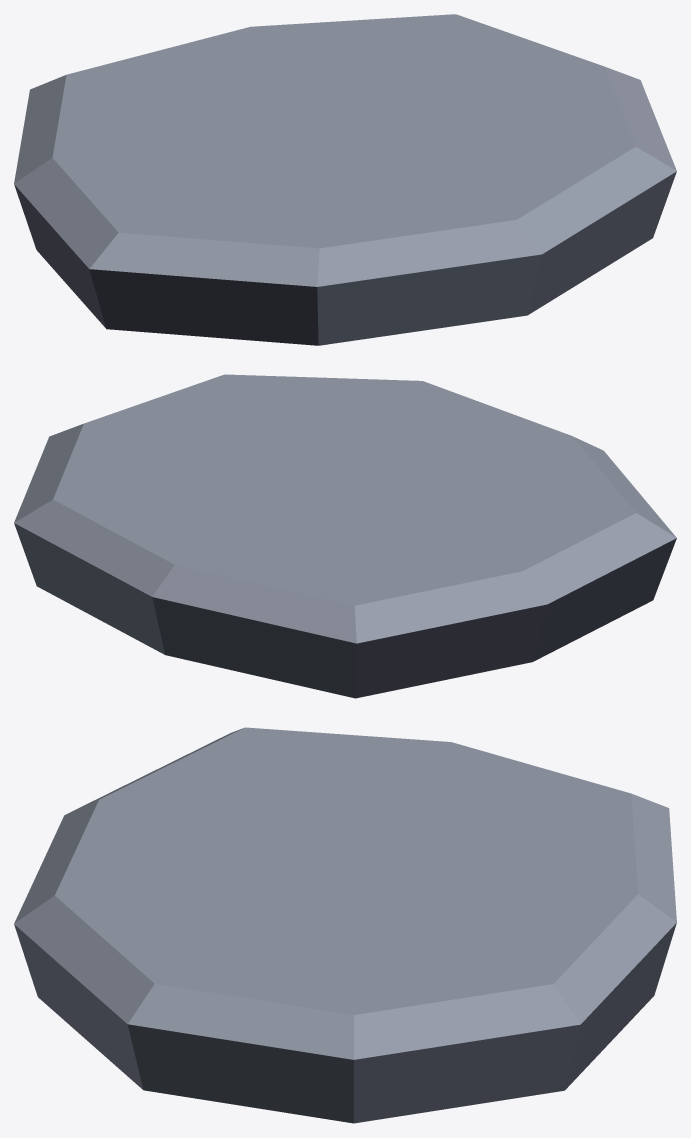
The model's file is TW_PAVER_ROUND_A_LOD0.glb.
The picture shows the model from 3 angles, top to bottom: view 1: azimuth 30°, elevation 25°; view 2: azimuth 150°, elevation 25°; view 3: azimuth 270°, elevation 25°; orthographic projection. The views are drawn at different scales.
Parts seen in each view (by area): view 1: TW_PAVER_ROUND_A_LOD0; view 2: TW_PAVER_ROUND_A_LOD0; view 3: TW_PAVER_ROUND_A_LOD0.
Part boxes in pixels (box(x1,y1,x2,y2)): TW_PAVER_ROUND_A_LOD0: box(14, 14, 676, 345); TW_PAVER_ROUND_A_LOD0: box(14, 374, 676, 698); TW_PAVER_ROUND_A_LOD0: box(14, 727, 676, 1123).
Size of the model in its own units: 0.7 by 0.1 by 0.6.
1 material, 1 textured.
